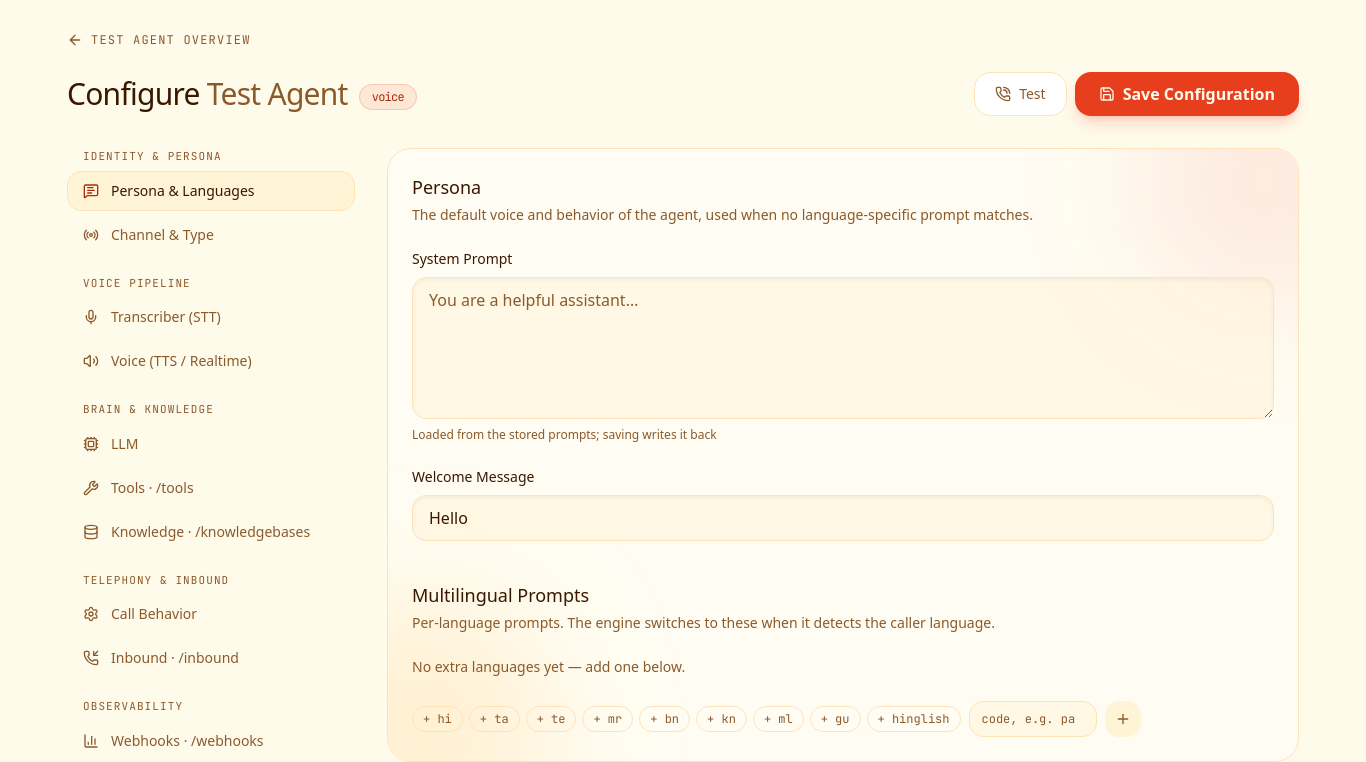
Test: AgentConfigurePage (Dev C: staged type/channels) › renders 422 per-field errors as human-readable lines
Expected: the text "voice" is shown, left=359, top=84, right=417, bottom=110
What coordinates should you click on to do the following:
click the button "Save Configuration"
I would click on:
 (1187, 94)
Its box is left=1075, top=72, right=1299, bottom=116.
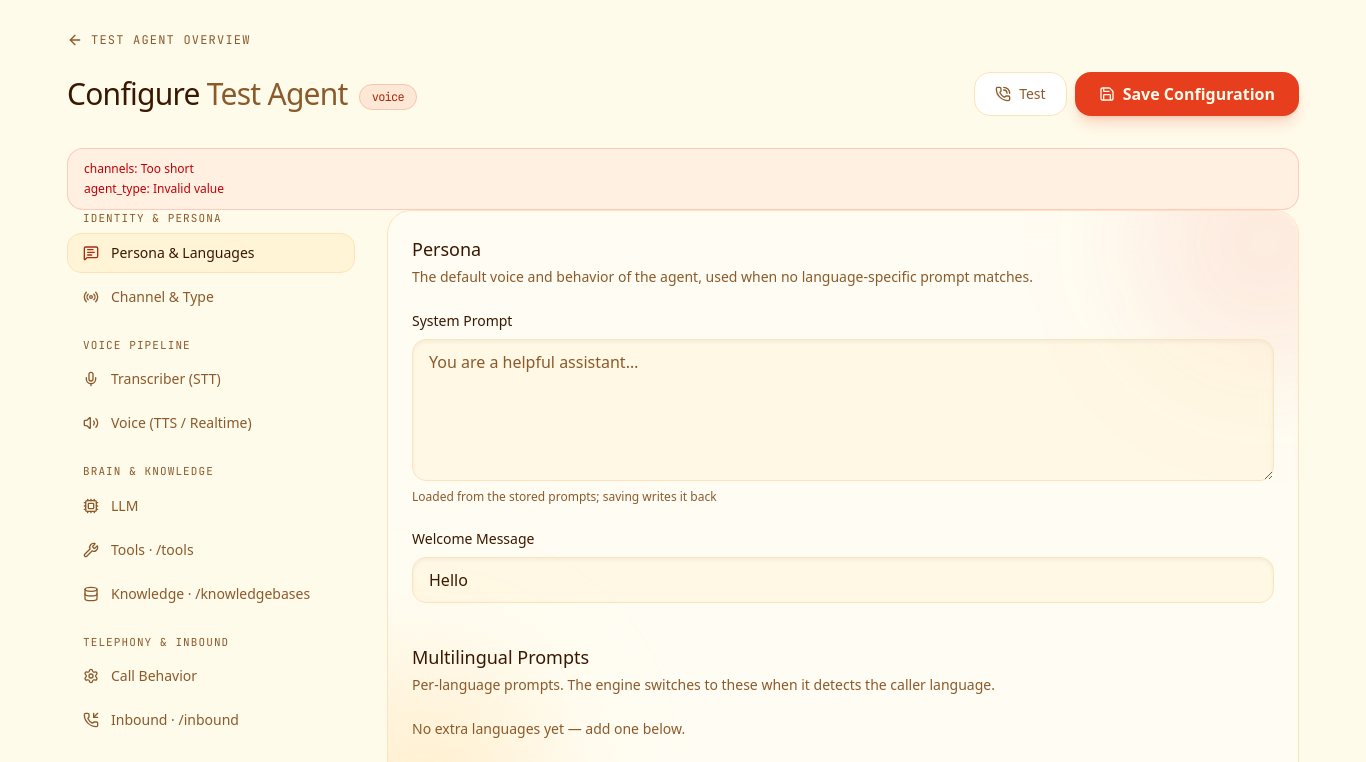
Expected: the text "channels: Too short" is shown, left=84, top=160, right=194, bottom=177
Expected: the text "agent_type: Invalid value" is shown, left=84, top=180, right=224, bottom=197
